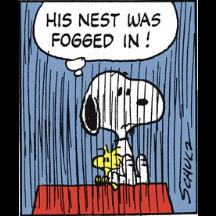snoopy: (78, 70, 166, 186)
